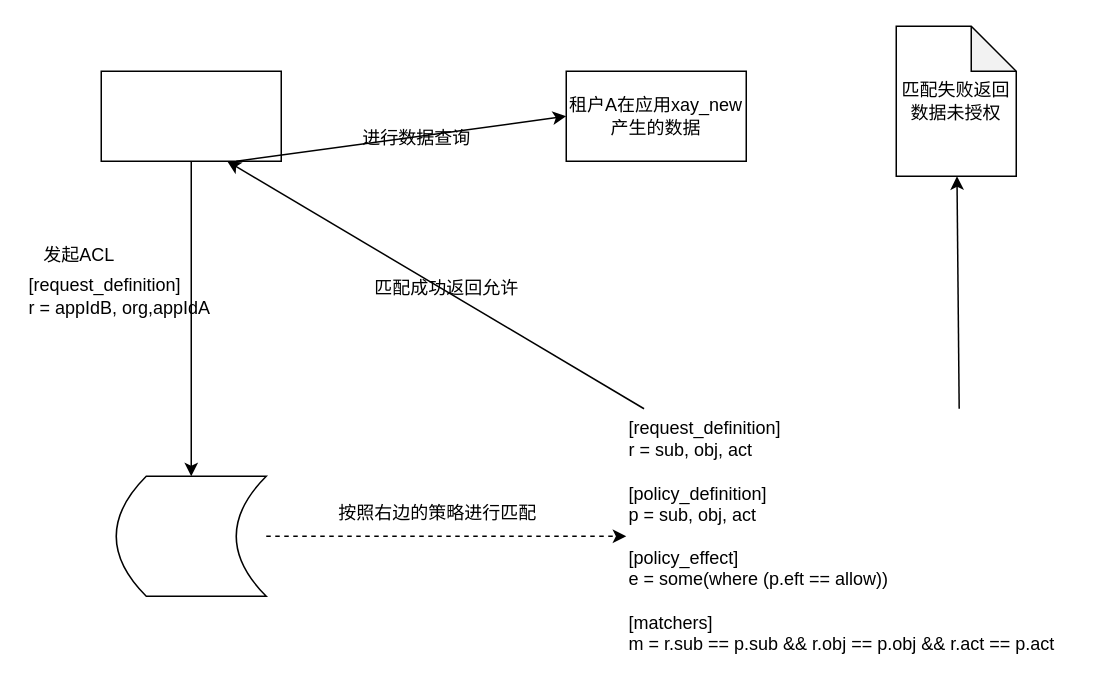
Image size: 1116x690. Some labels were removed from this diagram. Each missing label, with the centre of its shape:
"数据授权服务" goes at pixel 190 535.
"租户B在应用ahj_site下，需要租户A在应用xay_new产生的数据进行数据支撑" goes at pixel 190 115.
